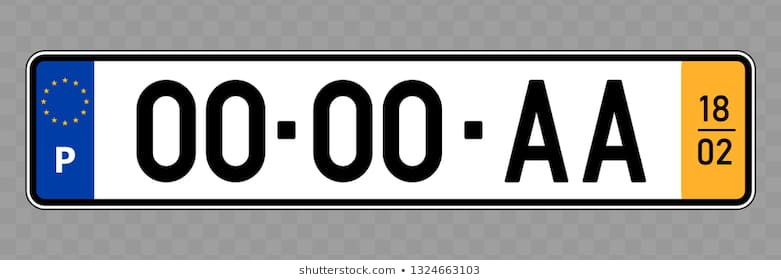number_plate: (24, 48, 759, 212)
